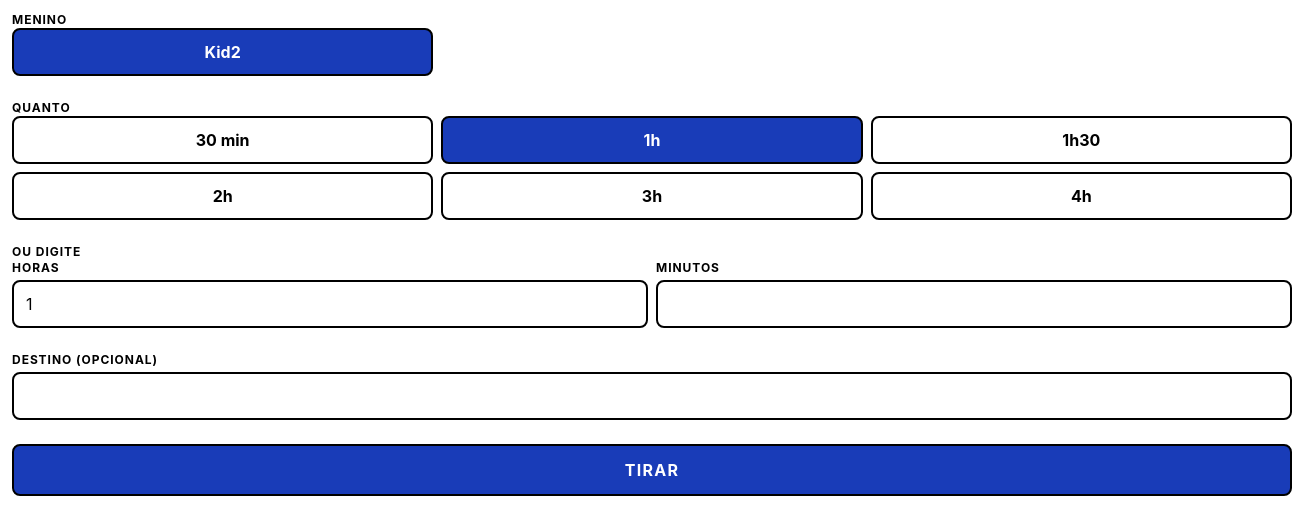
Scenario: hours and minutes, never a fraction (#48) › fills both fields from a shortcut, in one tap
The width and height of the screenshot is (1304, 513).
Click the button "1h30": (1081, 140) [871,116,1292,164]
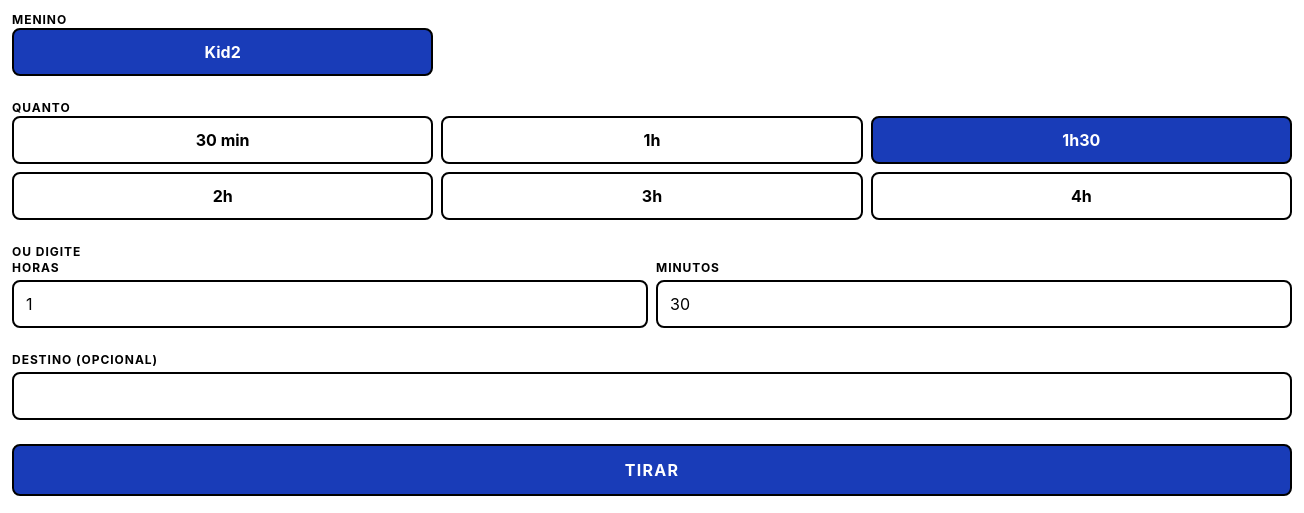
Check: the field with id "tempo-horas" holds "1", box [12,280,648,328]
Check: the field with id "tempo-minutos" holds "30", box [656,280,1292,328]
